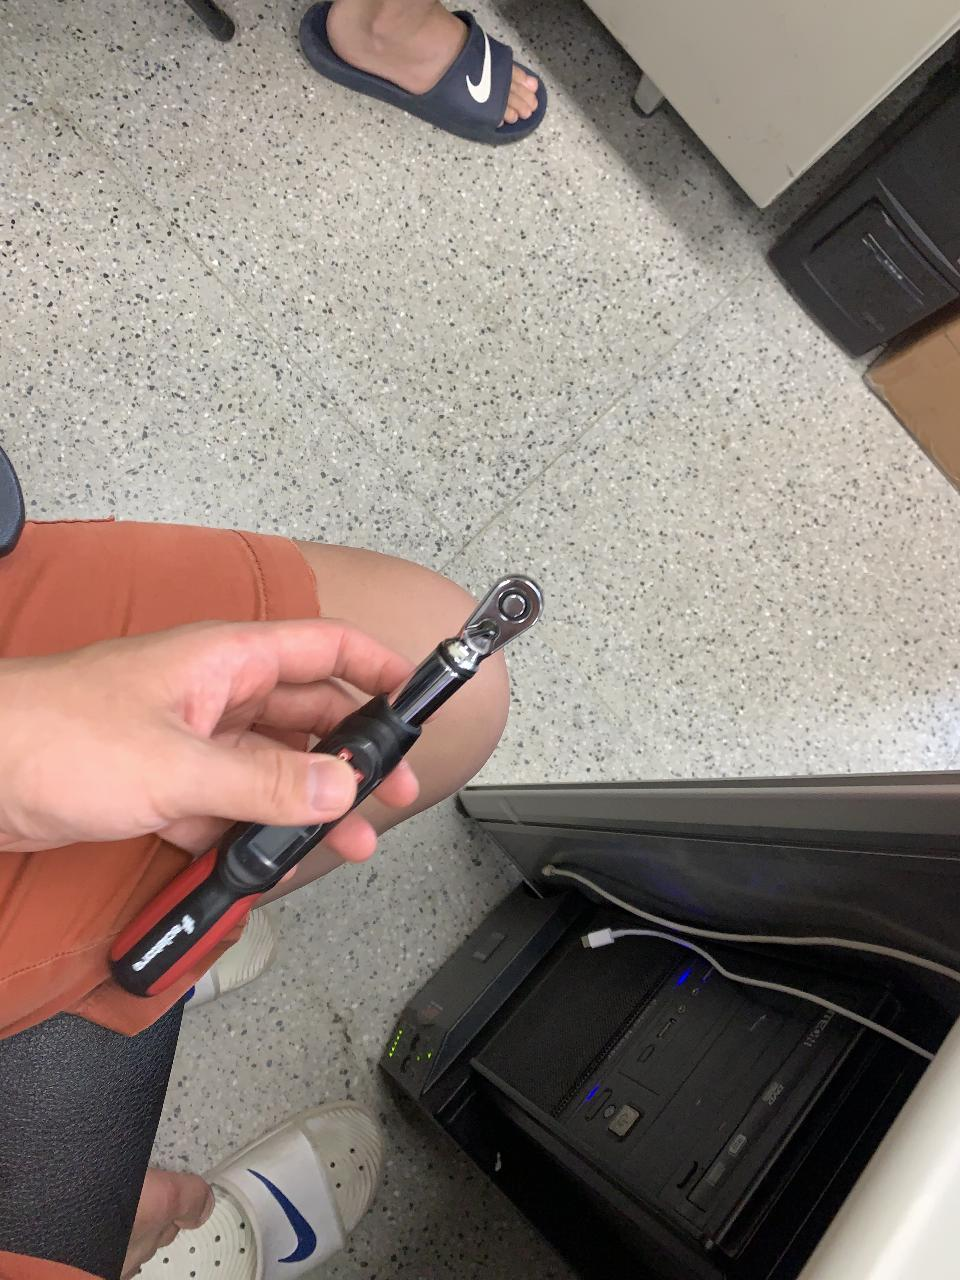Tool: (452, 570, 544, 663)
